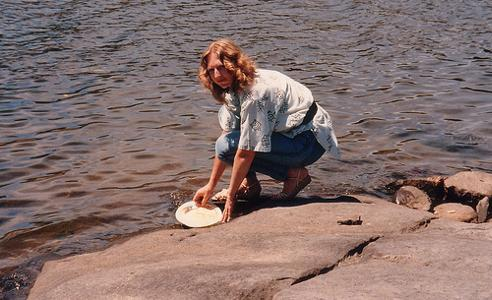person: (196, 38, 344, 226)
